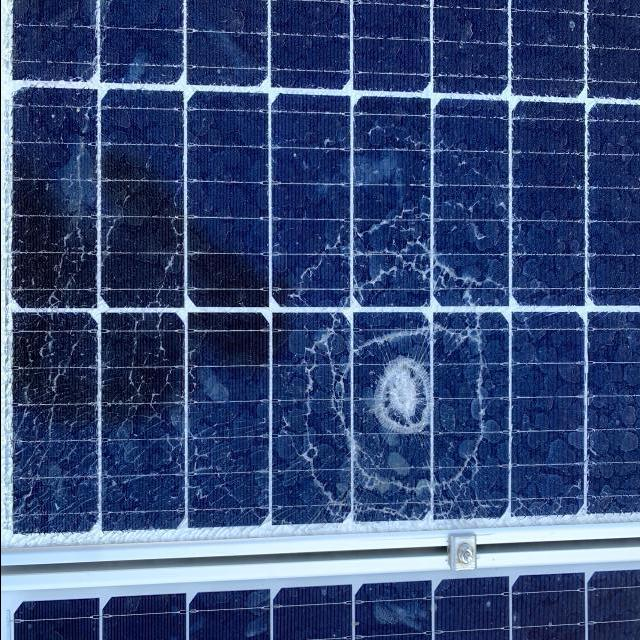cracked: (0, 2, 639, 554)
